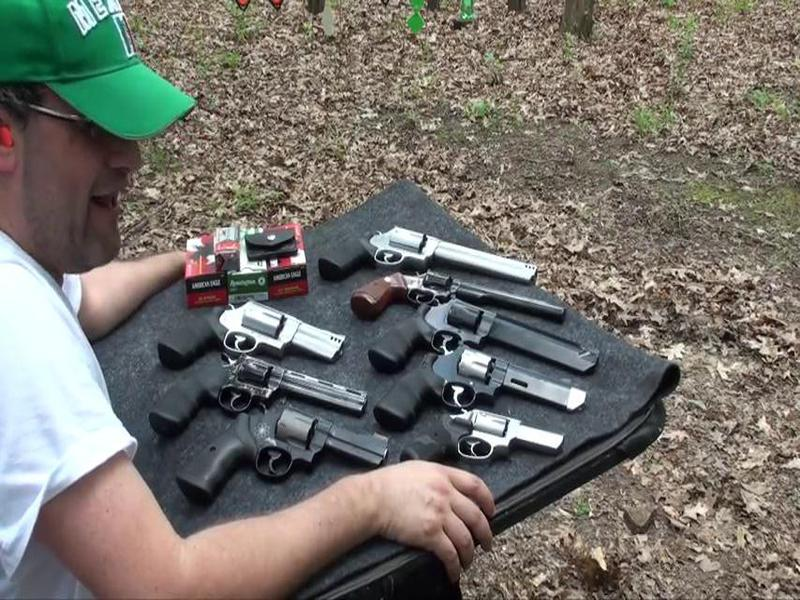Revolver: (375, 403, 573, 485)
